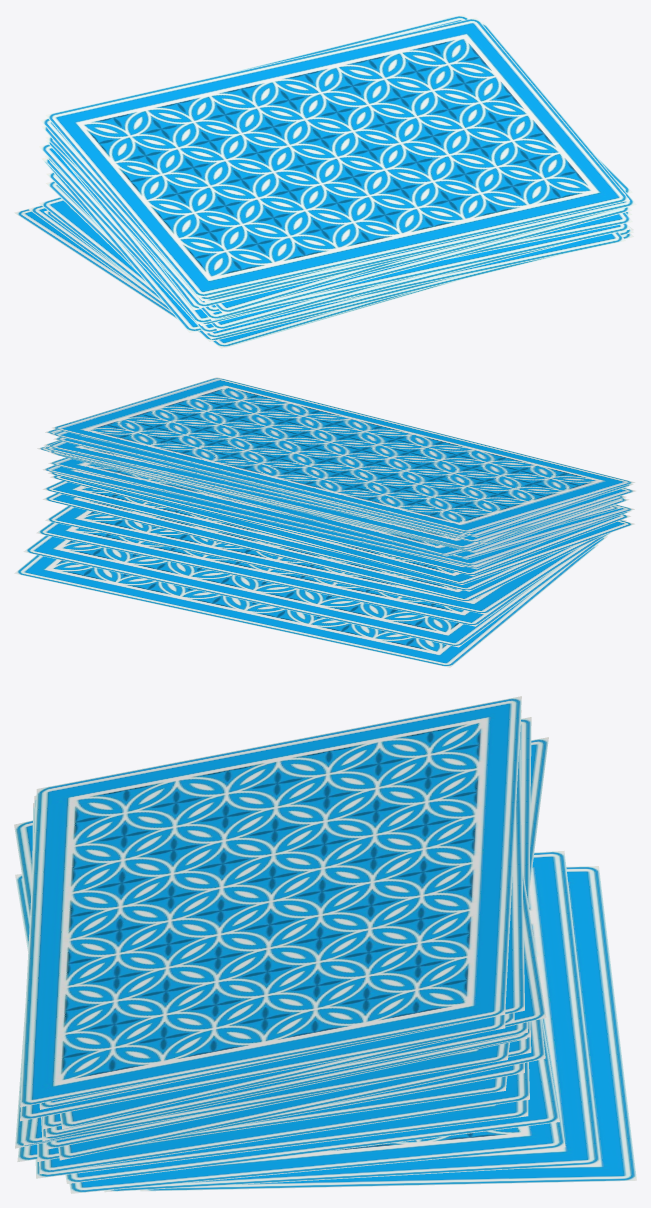
The picture shows the model from 3 angles, top to bottom: view 1: azimuth 30°, elevation 25°; view 2: azimuth 150°, elevation 25°; view 3: azimuth 270°, elevation 25°; orthographic projection. The views are drawn at different scales.
Parts seen in each view (by area): view 1: Cards; view 2: Cards; view 3: Cards.
Part boxes in pixels (x1=…): Cards: x1=14, y1=14, x2=636, y2=348; Cards: x1=14, y1=377, x2=635, y2=667; Cards: x1=14, y1=696, x2=636, y2=1193.
Bounding box in the file's own units: 1.59 × 0.3894 × 1.25.
Materials: 1 (1 with a texture image).
